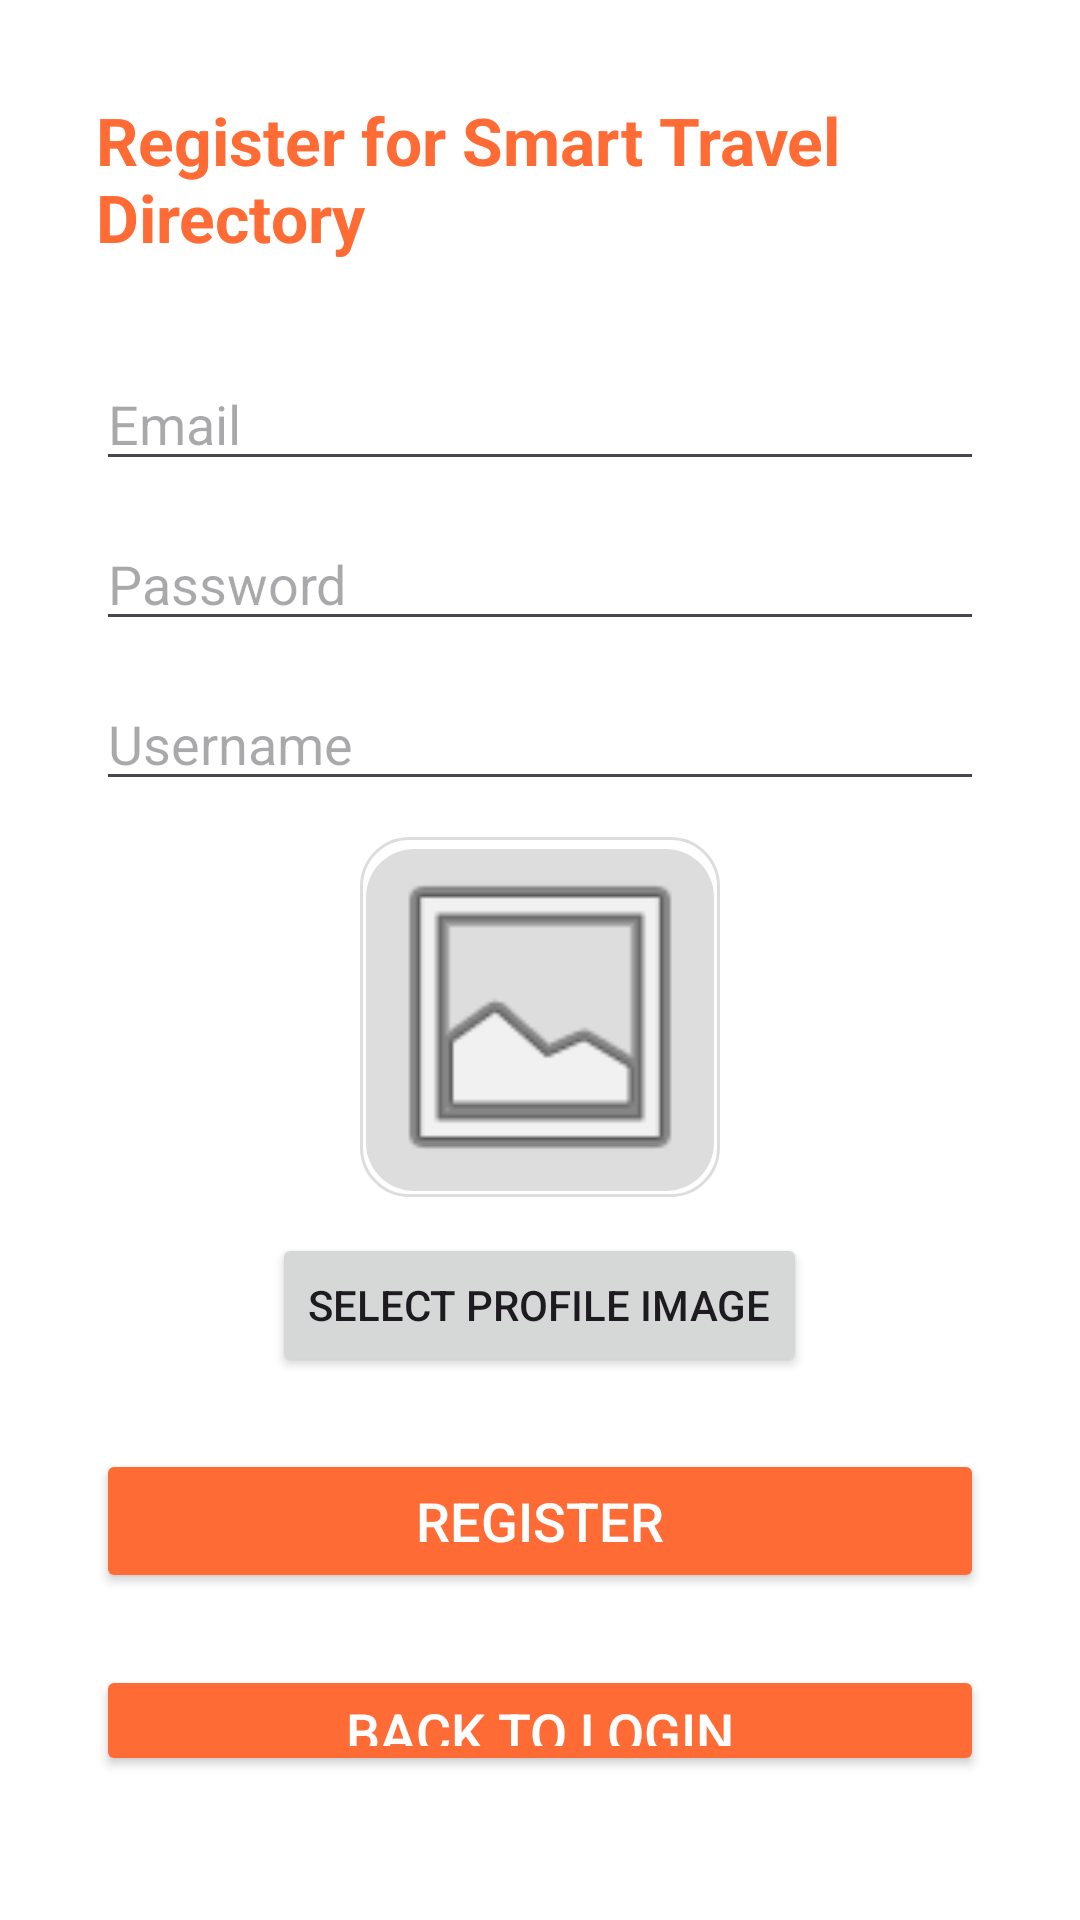

Named icons in this screenshot (1080x1920) and their bounding boxes, (x1, y1, x2, y2):
gallery: (360, 837, 720, 1197)
